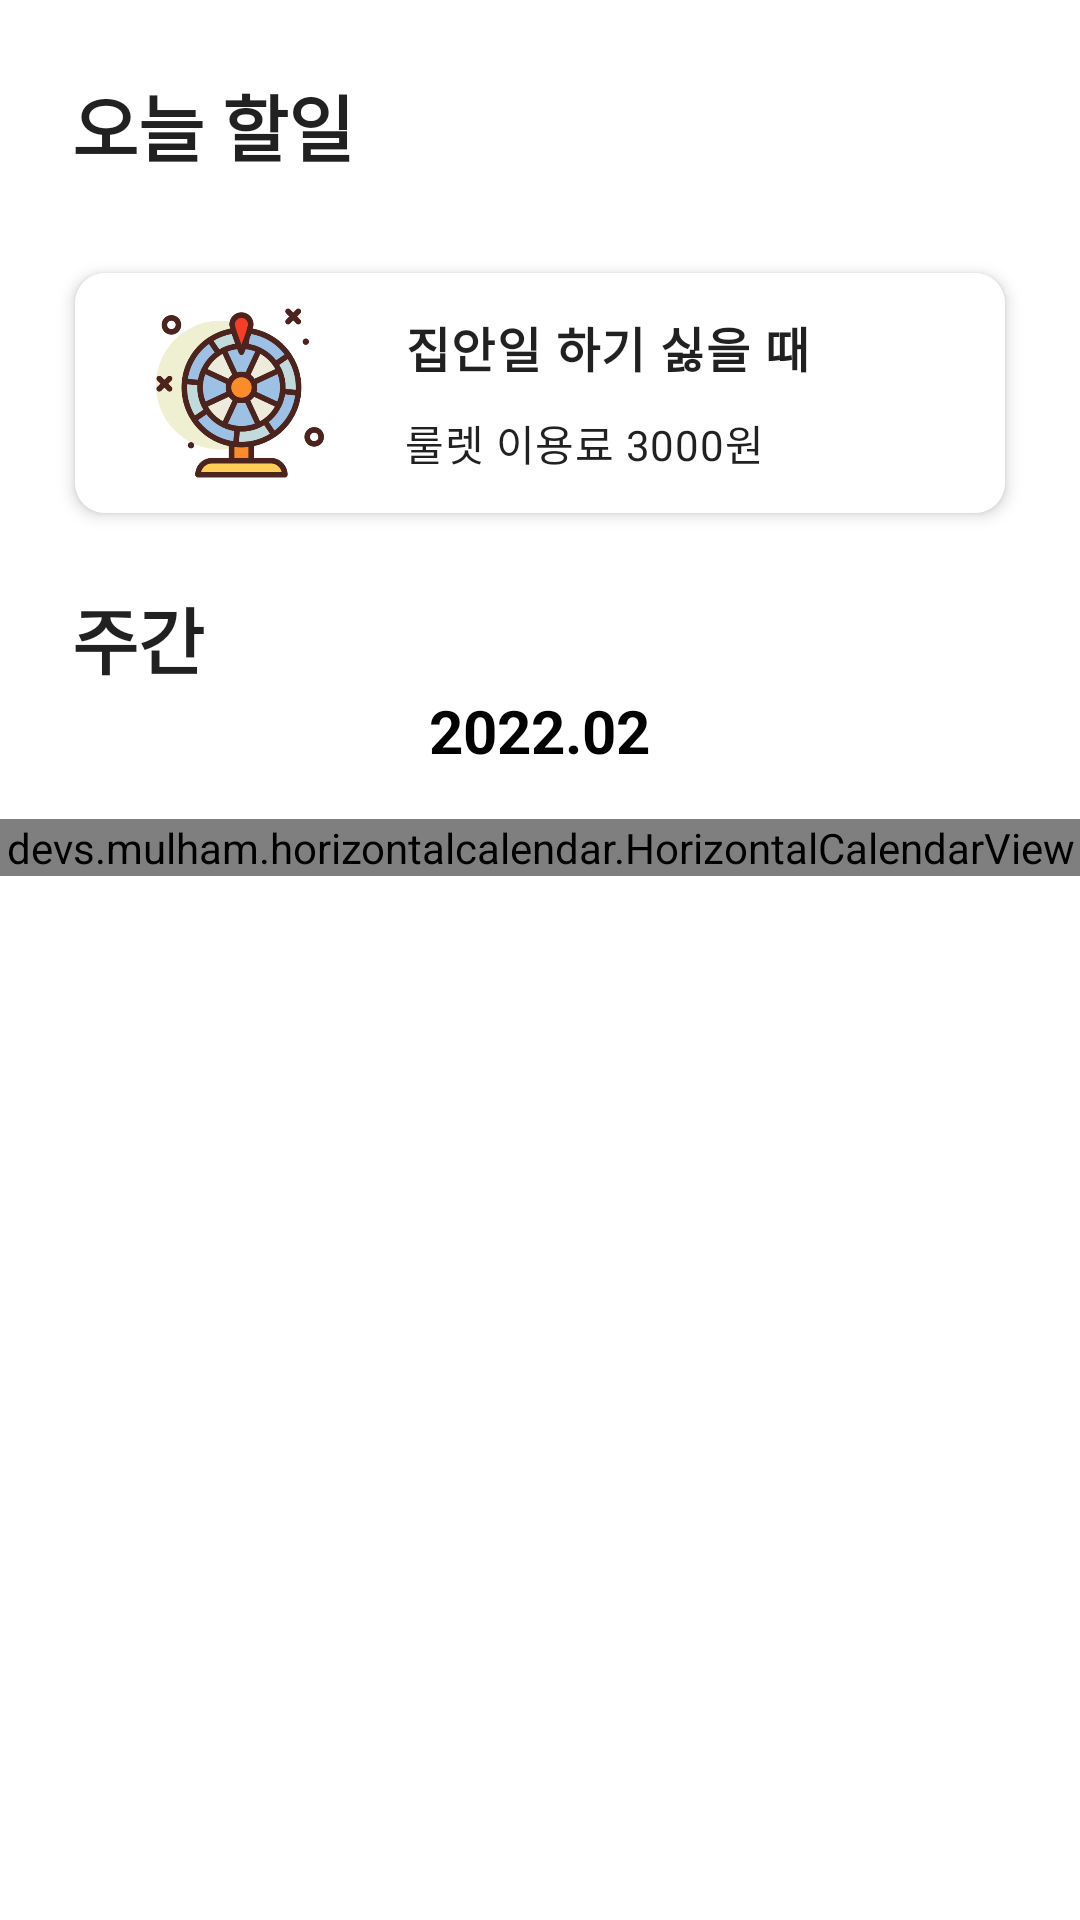

Icons on this 1080×1920 Android screen, each with the point to tap as (x=x, y=y):
roulette: (x=240, y=393)
